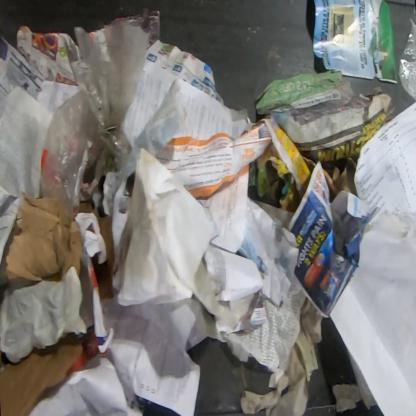cardboard: (0, 330, 84, 416)
soft_plastic: (40, 10, 162, 219), (396, 3, 415, 104)
